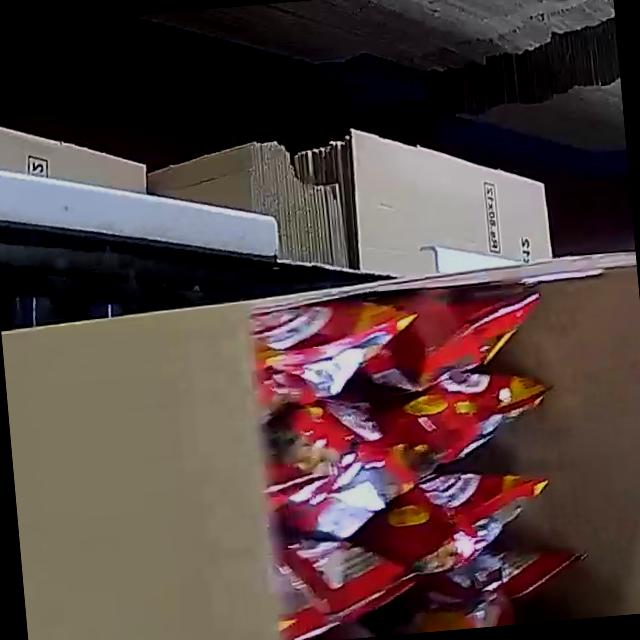masala: (247, 277, 591, 640)
